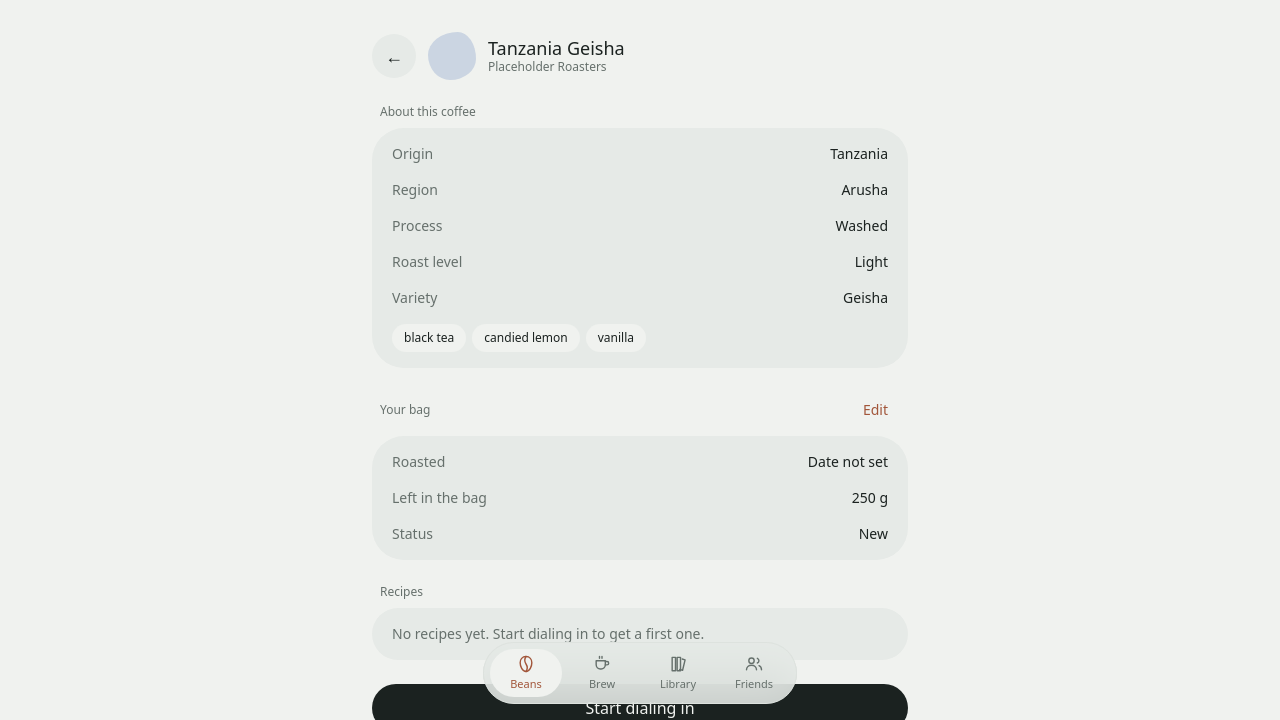
Bag management › edits how much is left and the roast date
Step 1. Click the button "Edit" → (875, 410), box [851,392,900,428]
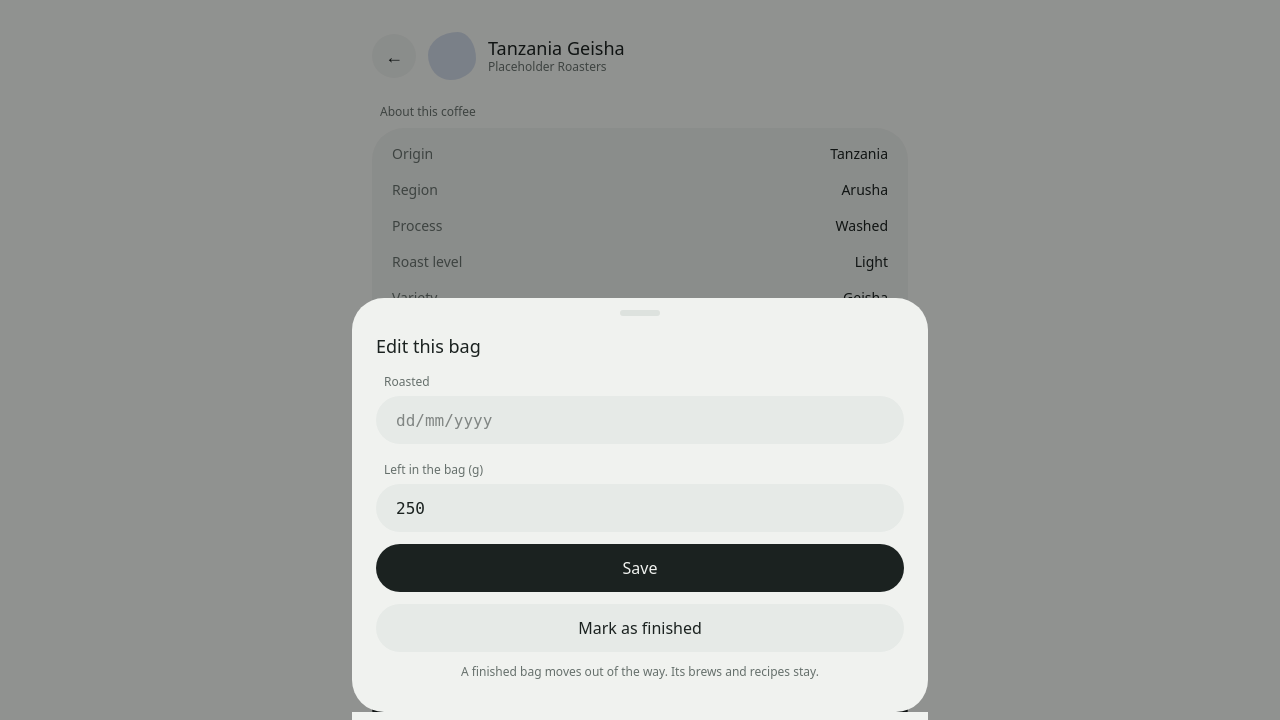
Step 2. Replace the text in the number field labelled "Left in the bag (g)" with "180" → (640, 508), box [376,484,904,532]
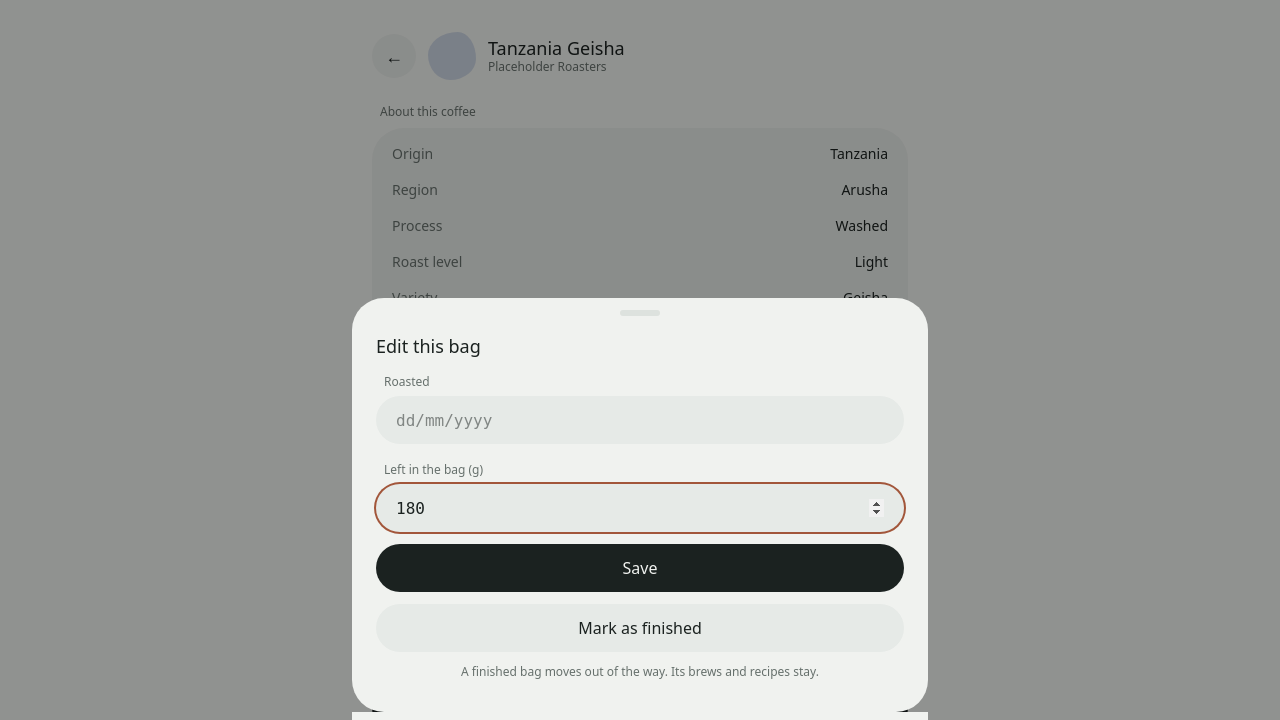
Step 3. Type "01102026" into the field labelled "Roasted" → (640, 420), box [376,396,904,444]
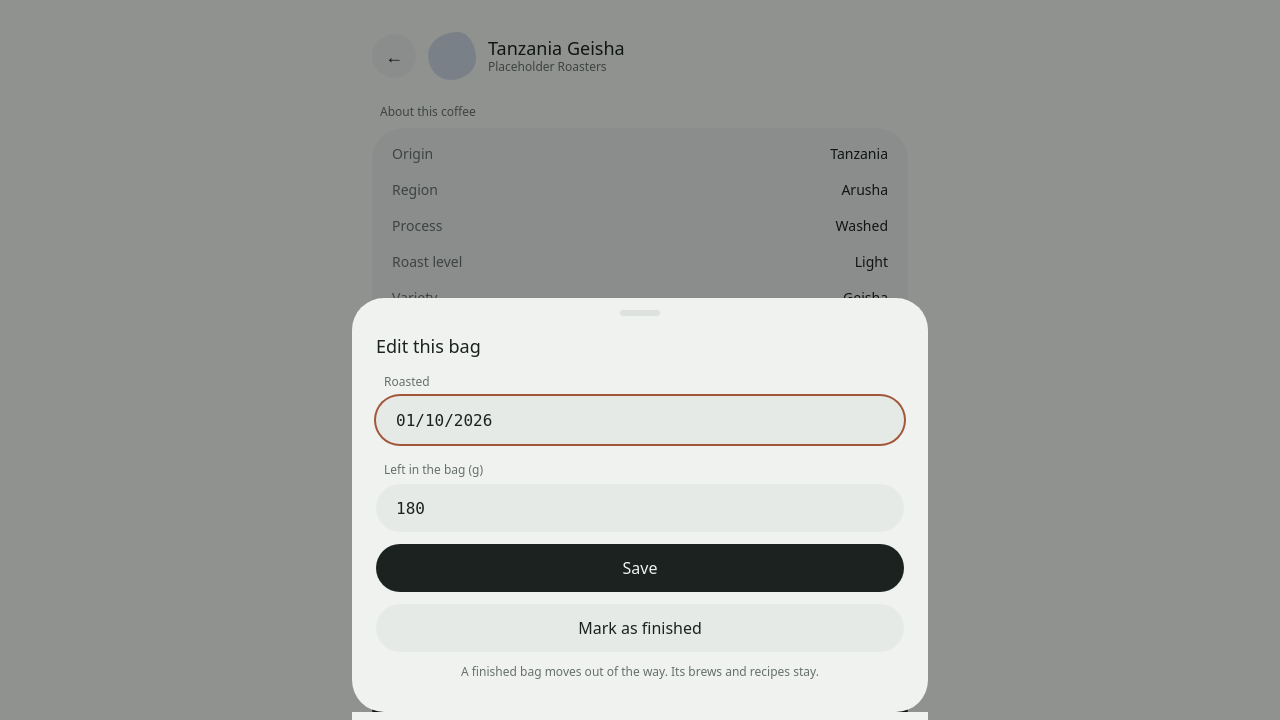
Step 4. Click the button "Save" → (640, 568), box [376,544,904,592]
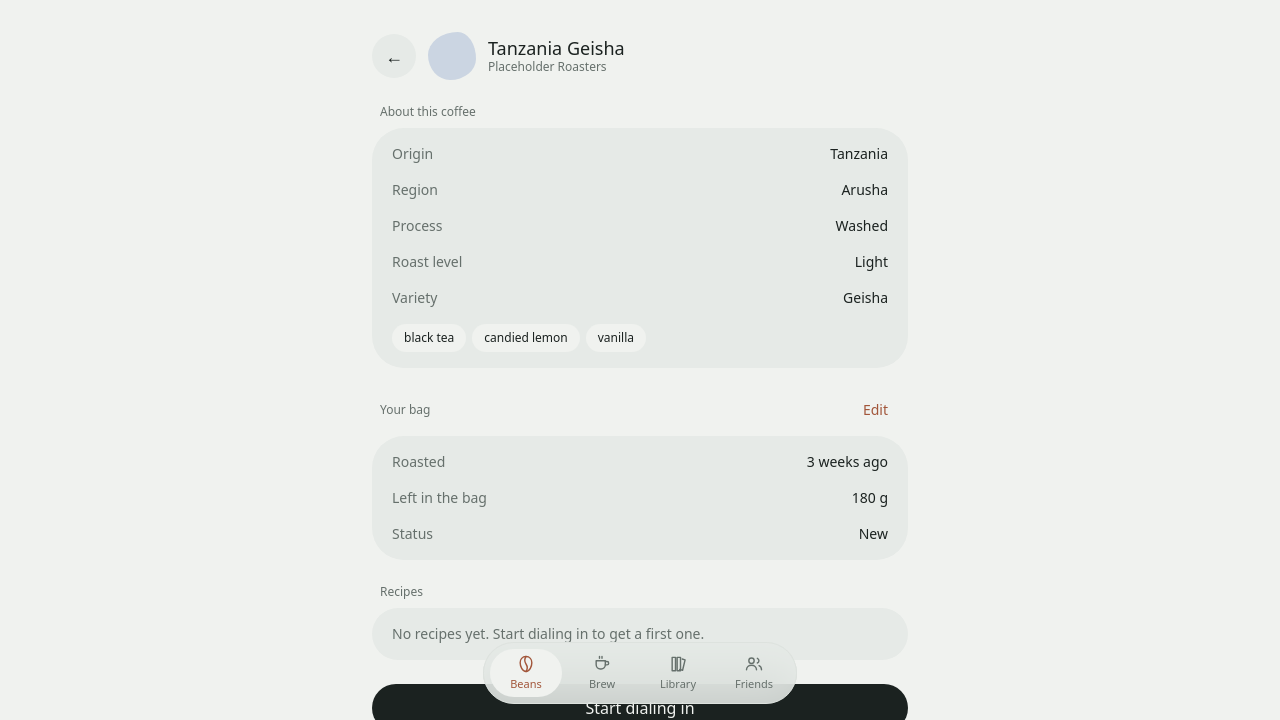
Expected: the text "180 g" is shown, [852,488,888,508]
Expected: the text "Date not set" is gone
